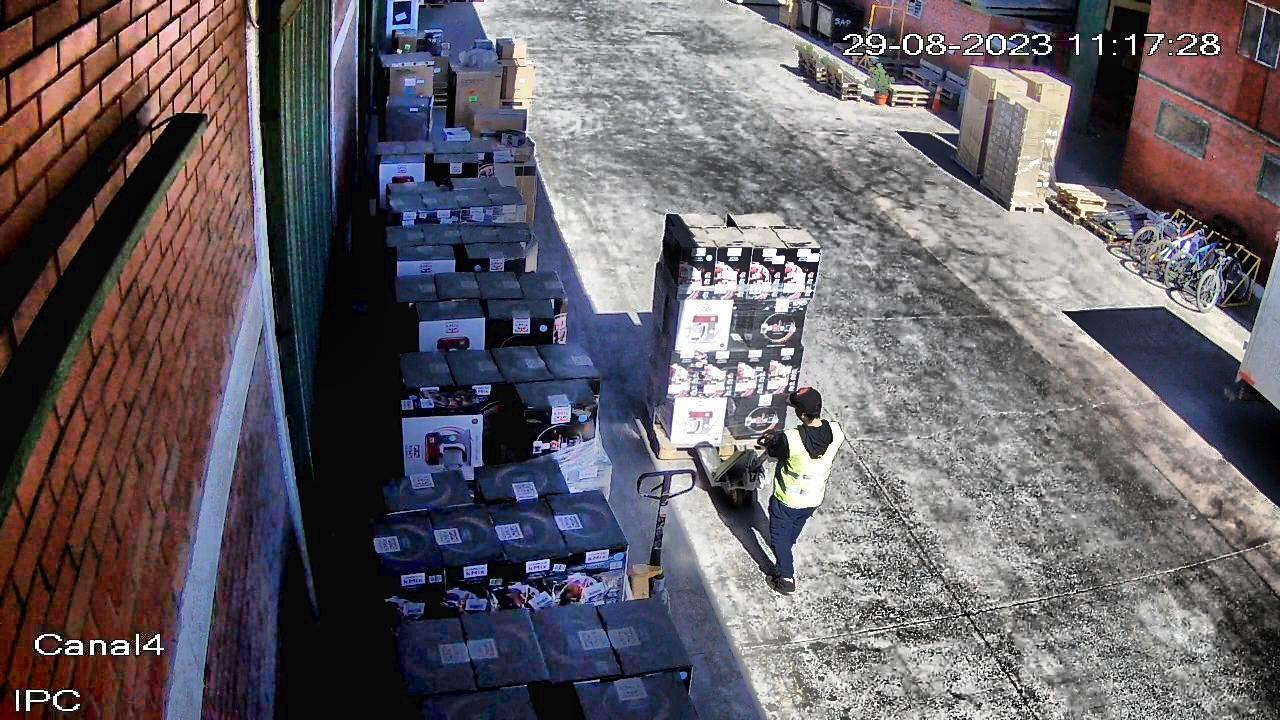con-chaleco: (767, 420, 849, 509)
persona: (752, 379, 845, 604)
sin-casco: (779, 382, 830, 424)
